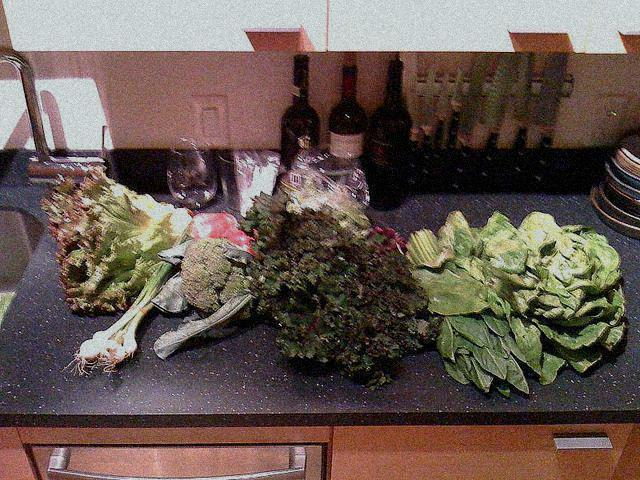Lavaplatos: (0, 55, 130, 436)
